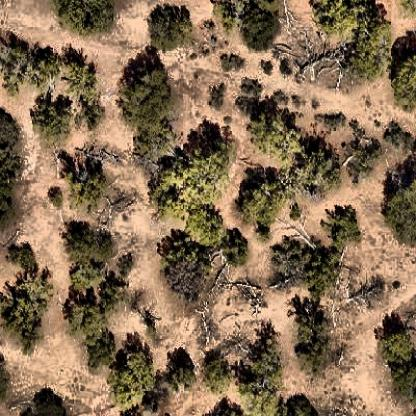tree-top: (155, 143, 226, 213), (115, 58, 177, 129), (160, 242, 207, 309), (354, 2, 393, 81), (232, 176, 289, 230), (250, 106, 304, 160), (238, 343, 288, 400), (295, 143, 348, 193), (0, 112, 24, 221), (144, 3, 196, 52), (112, 342, 164, 390), (5, 38, 51, 90), (64, 222, 113, 270), (57, 0, 120, 36), (60, 297, 108, 342), (66, 165, 115, 209), (0, 295, 46, 341), (27, 98, 74, 141), (384, 181, 416, 244), (61, 55, 103, 100), (182, 206, 228, 246), (243, 2, 280, 49), (377, 322, 416, 366), (316, 2, 363, 38), (17, 265, 58, 306), (326, 208, 363, 250), (291, 308, 326, 352), (196, 349, 235, 388), (386, 54, 416, 104), (83, 331, 119, 369), (8, 241, 40, 276), (220, 233, 251, 269), (29, 390, 66, 416), (166, 360, 196, 392), (381, 124, 412, 154), (392, 359, 416, 396), (287, 396, 318, 416), (44, 186, 69, 210), (221, 51, 246, 72)
